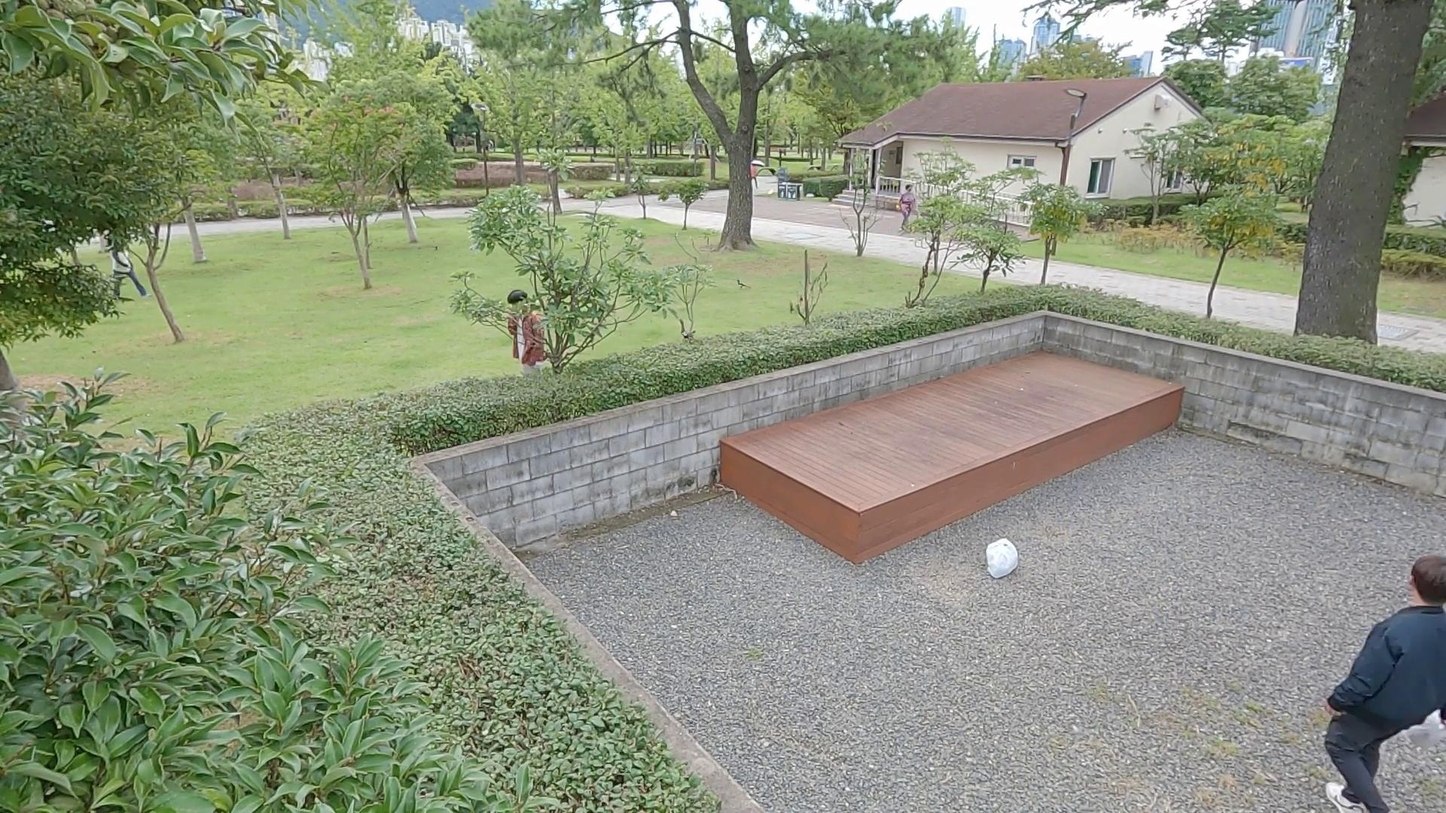person: (1301, 550, 1446, 813), (490, 282, 551, 381), (97, 221, 145, 301), (897, 181, 923, 234)
trash: (984, 535, 1020, 583)
